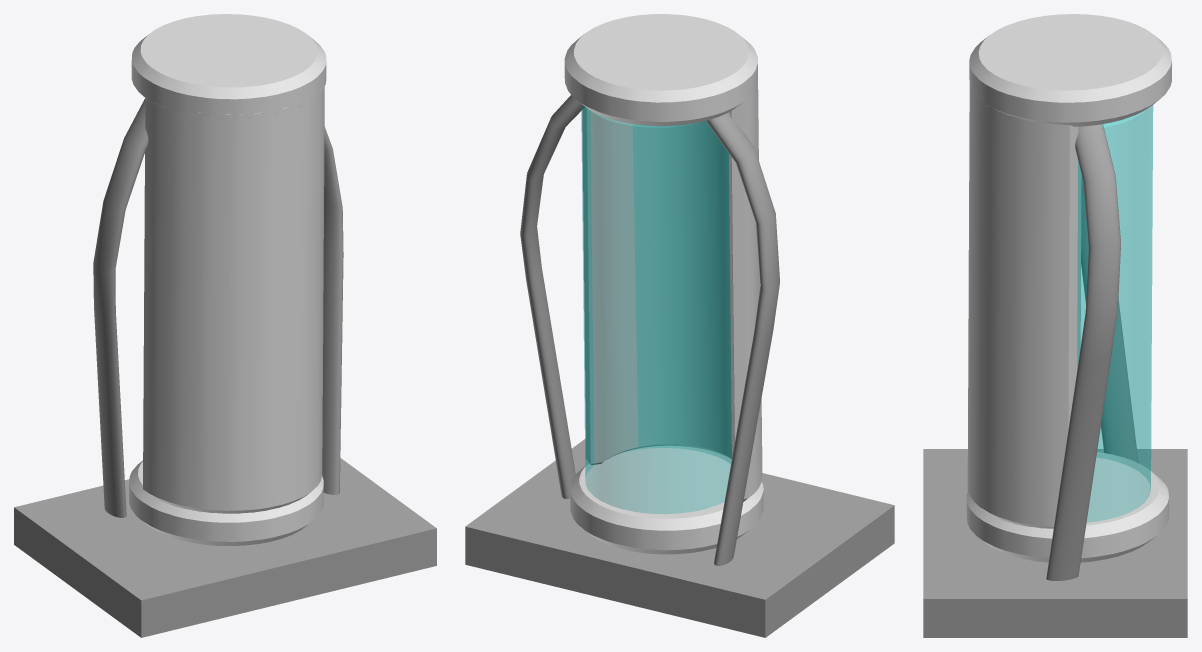
Rendered from cryopod2.fbx.
3 renders of one model, left to right at view 1: azimuth 30°, elevation 25°; view 2: azimuth 150°, elevation 25°; view 3: azimuth 270°, elevation 25°, orthographic. The views are drawn at different scales.
Visible parts, largest first — view 1: pCube2; view 2: pCube2; view 3: pCube2.
Part boxes in pixels (x1=…): pCube2: x1=14, y1=14, x2=436, y2=637; pCube2: x1=465, y1=14, x2=894, y2=637; pCube2: x1=923, y1=14, x2=1187, y2=637.
Size of the model in its own units: 1.09 by 1.74 by 0.8102.
